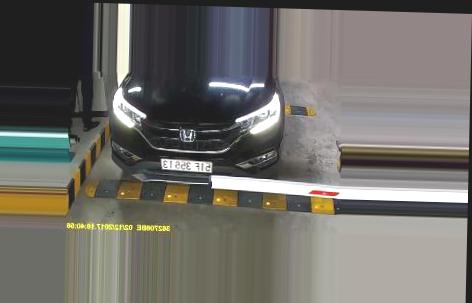License_Plate: (158, 157, 214, 176)
